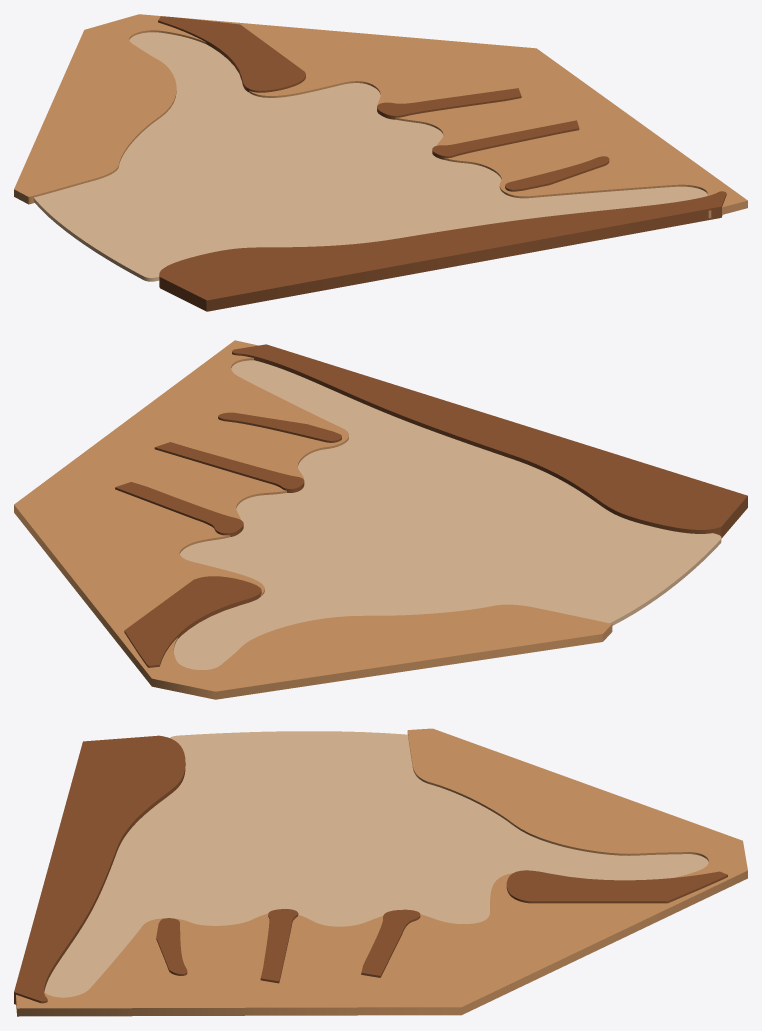
The model's file is emoji_u1f919_1f3fc.glb.
3 renders of one model, top to bottom at view 1: azimuth 30°, elevation 25°; view 2: azimuth 150°, elevation 25°; view 3: azimuth 270°, elevation 25°, orthographic. The views are drawn at different scales.
Parts seen in each view (by area): view 1: emoji_u1f919_1f3fc; view 2: emoji_u1f919_1f3fc; view 3: emoji_u1f919_1f3fc.
Part boxes in pixels (left/top/right/bottom): emoji_u1f919_1f3fc: left=14, top=14, right=747, bottom=311; emoji_u1f919_1f3fc: left=14, top=340, right=747, bottom=699; emoji_u1f919_1f3fc: left=14, top=728, right=747, bottom=1016.
Bounding box in the file's own units: 0.03 × 0.0006 × 0.0333.
